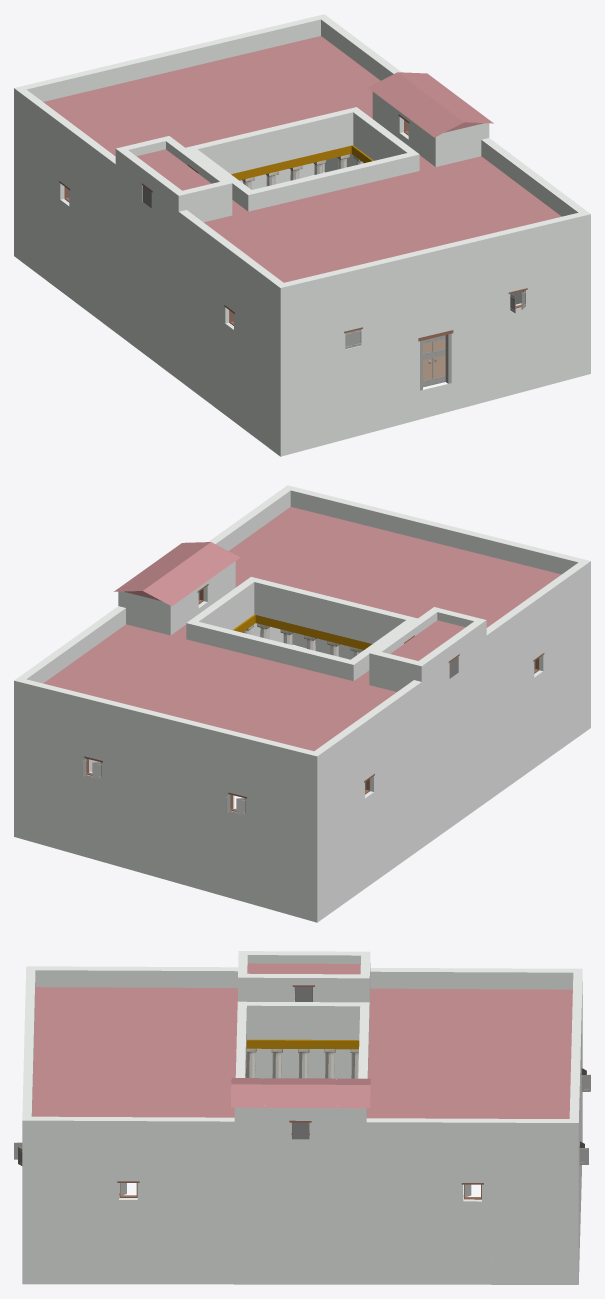
The model's file is LOD_Block_4_62.glb.
3 renders of one model, top to bottom at view 1: azimuth 30°, elevation 25°; view 2: azimuth 150°, elevation 25°; view 3: azimuth 270°, elevation 25°, orthographic. The views are drawn at different scales.
Parts seen in each view (by area): view 1: _1.5888; view 2: _1.5888; view 3: _1.5888.
Part boxes in pixels (x1=…): _1.5888: x1=14, y1=14, x2=590, y2=456; _1.5888: x1=14, y1=485, x2=590, y2=922; _1.5888: x1=14, y1=951, x2=590, y2=1284.
Bounding box in the file's own units: 19.99 × 11.65 × 30.97.
3 materials, 3 textured.
